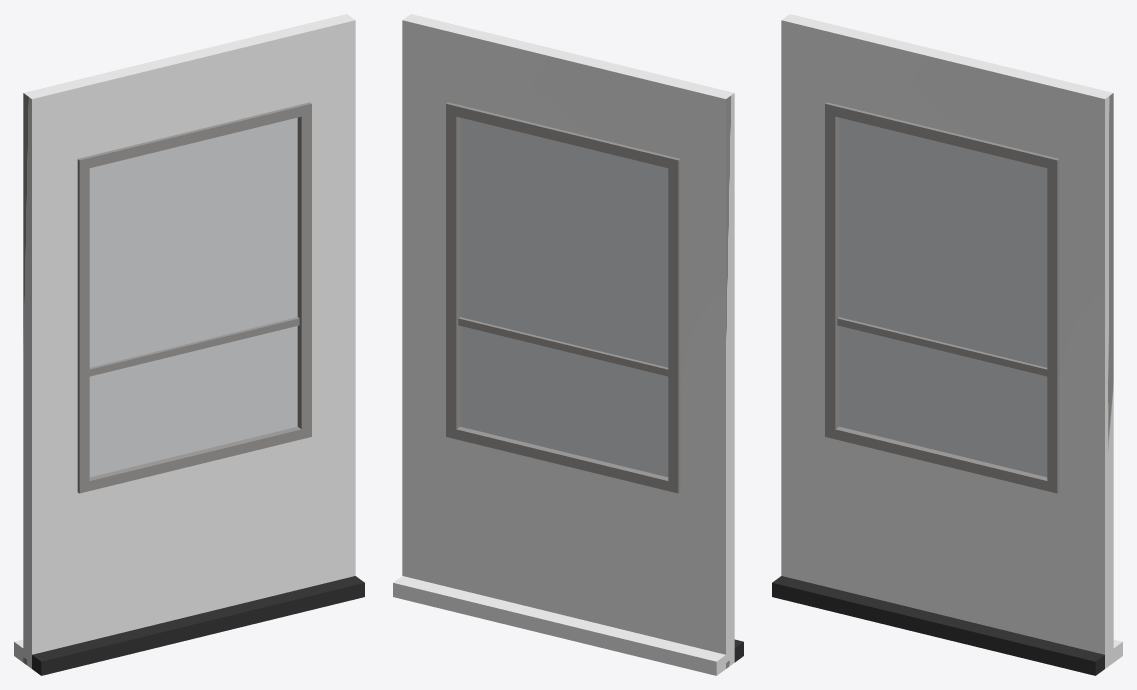
The model's file is 31_wall(window).FBX.
3 views of the same model, side by side, from view 1: azimuth 30°, elevation 25°; view 2: azimuth 150°, elevation 25°; view 3: azimuth 330°, elevation 25° (orthographic).
Visible parts, largest first — view 1: 31_wall(window), 31_wall(Alpha); view 2: 31_wall(window), 31_wall(Alpha); view 3: 31_wall(window), 31_wall(Alpha).
Part boxes in pixels (x1,y1,x2,y2): 31_wall(window): (14, 14, 364, 675); 31_wall(Alpha): (89, 117, 297, 477); 31_wall(window): (393, 14, 743, 675); 31_wall(Alpha): (460, 117, 668, 477); 31_wall(window): (772, 14, 1122, 675); 31_wall(Alpha): (839, 117, 1047, 477).
Size of the model in its own units: 256 by 432 by 37.56.
